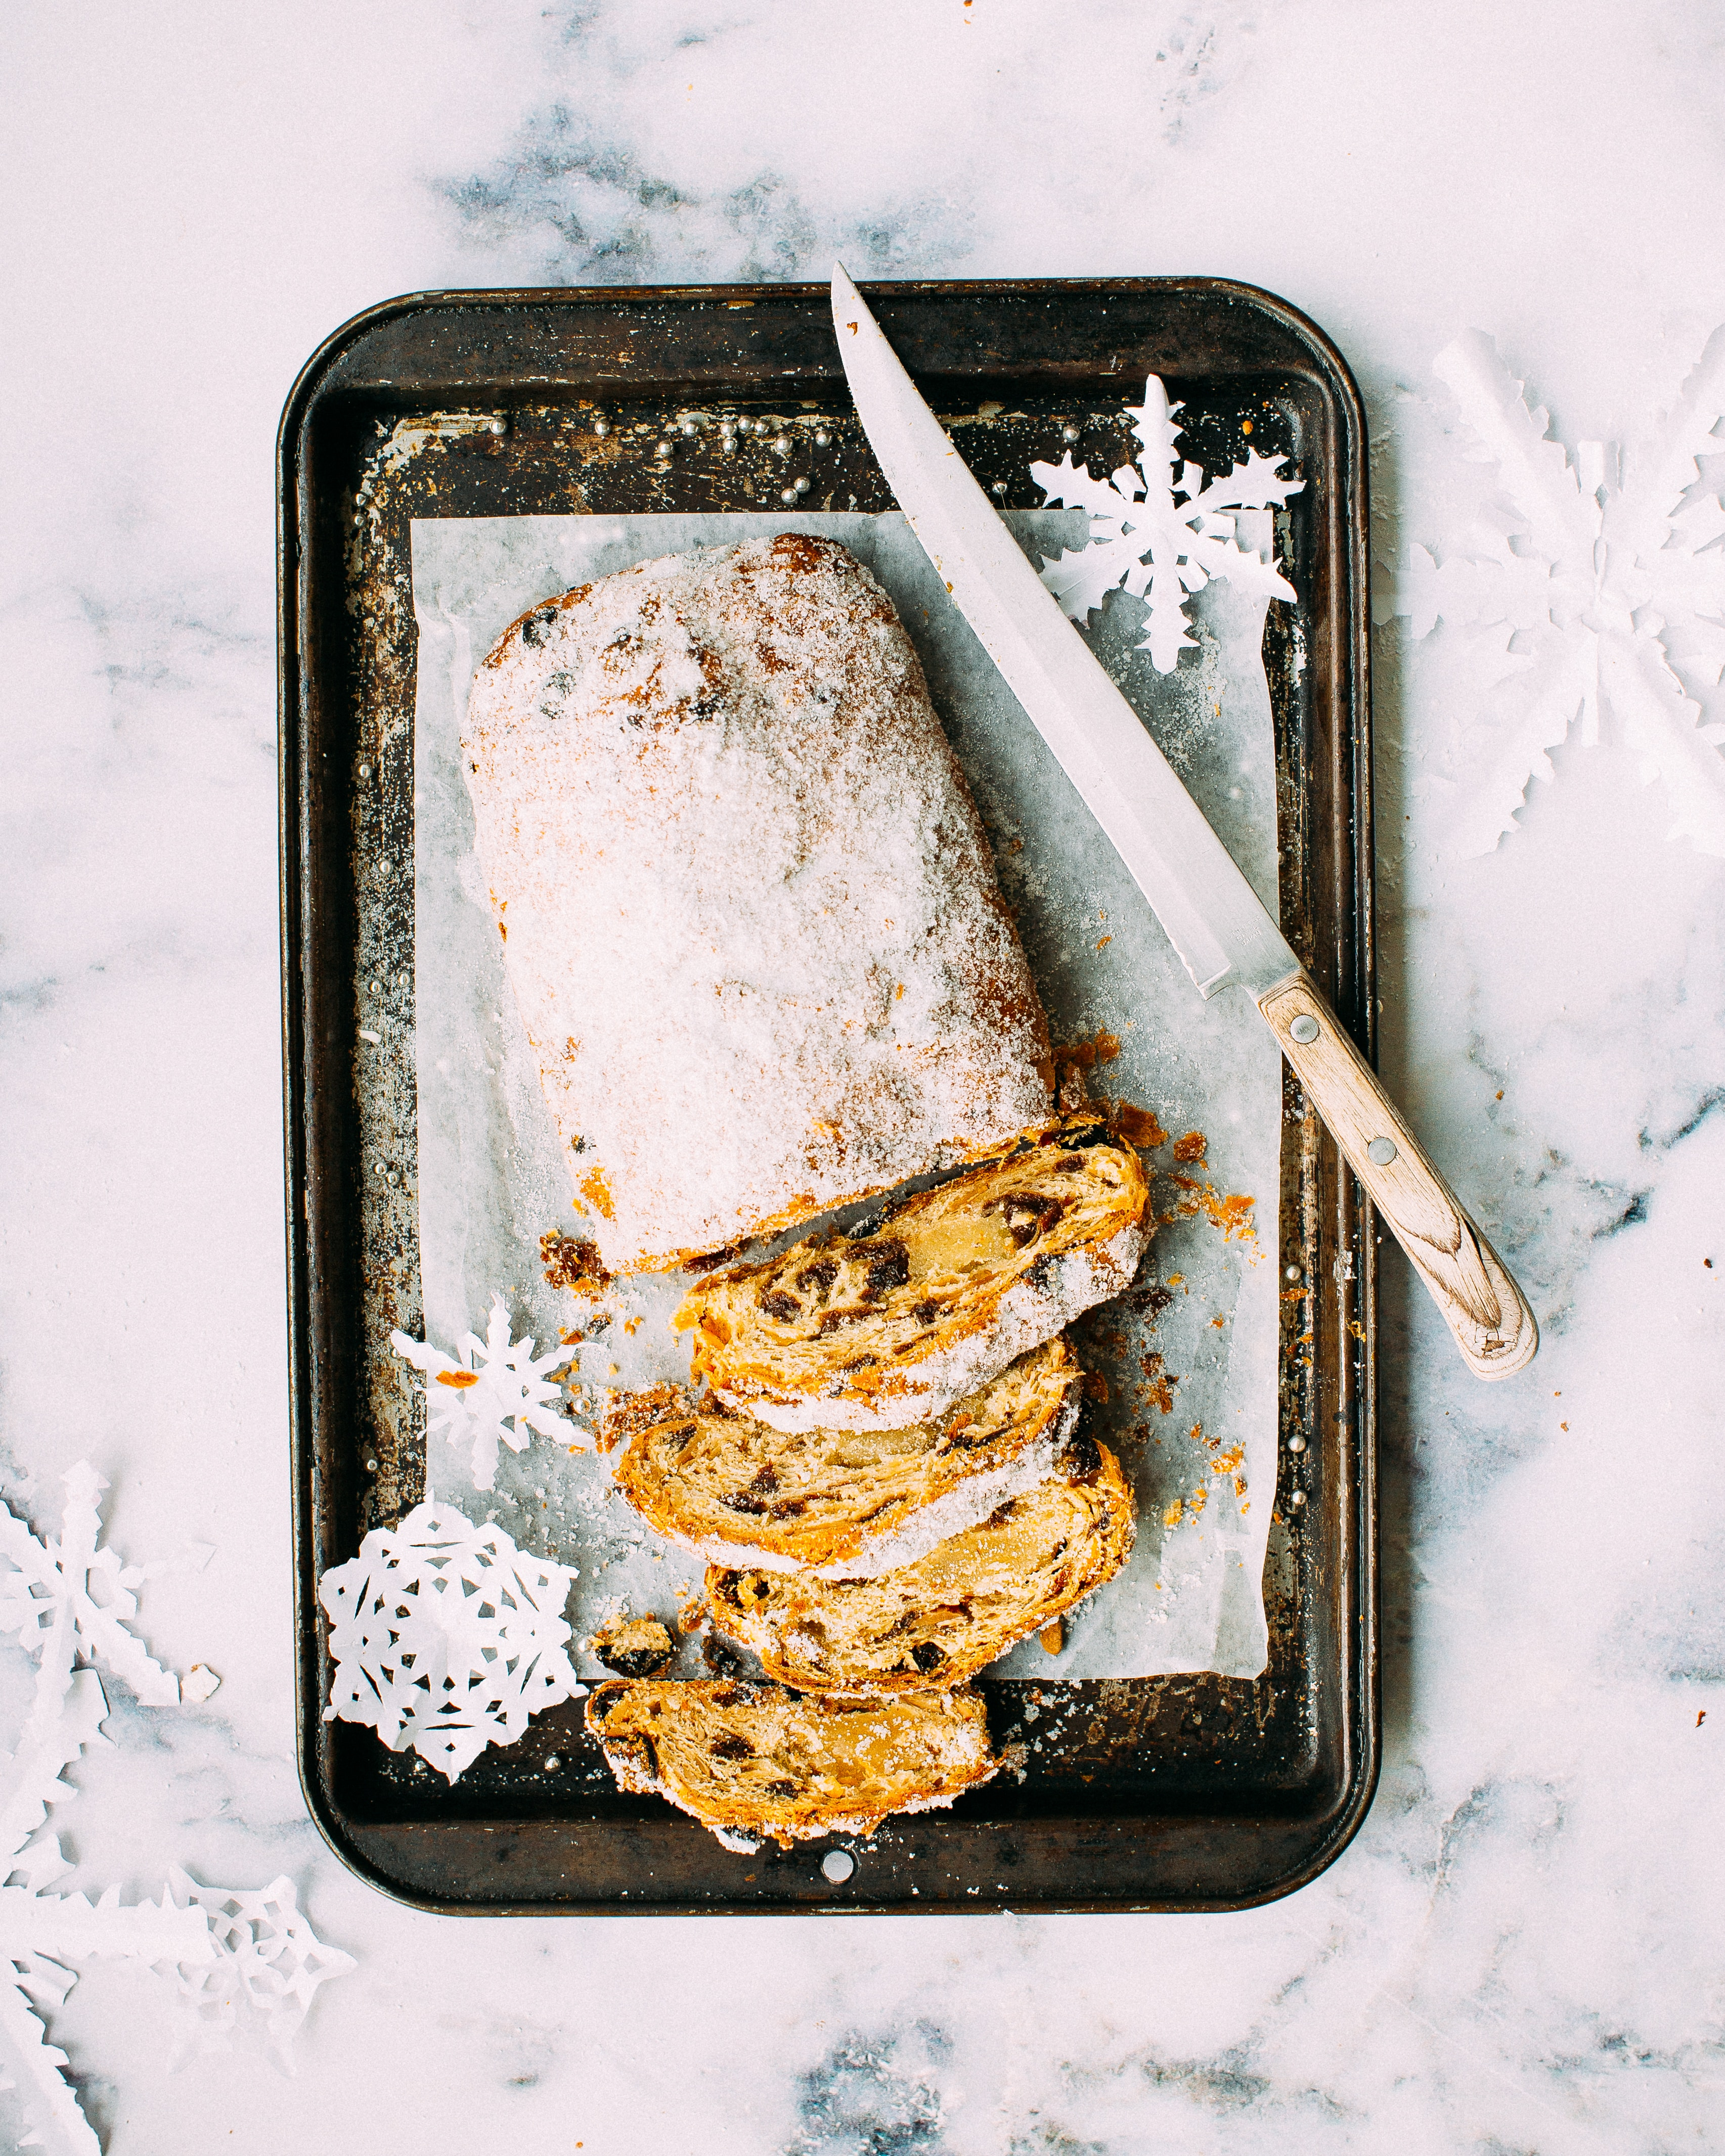knife: (780, 224, 1553, 1403)
